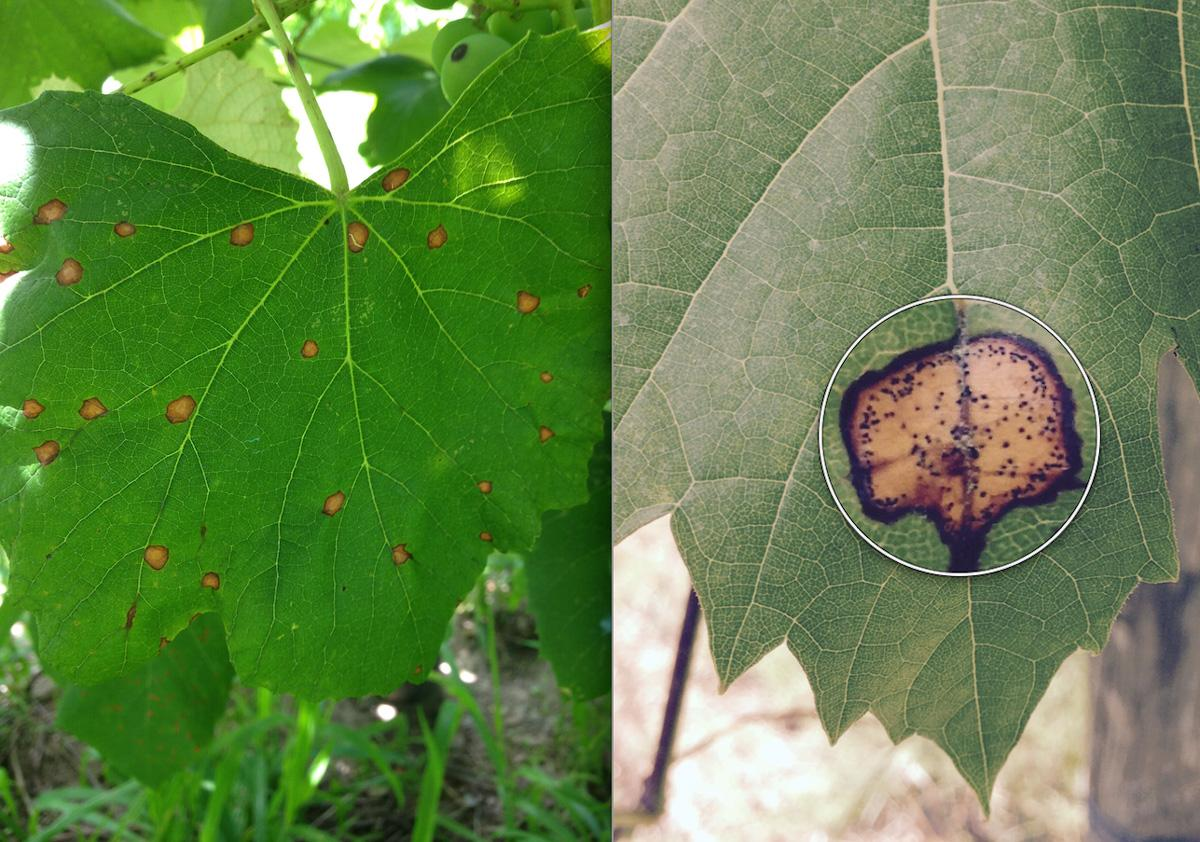grape leaf: (1, 26, 606, 741)
